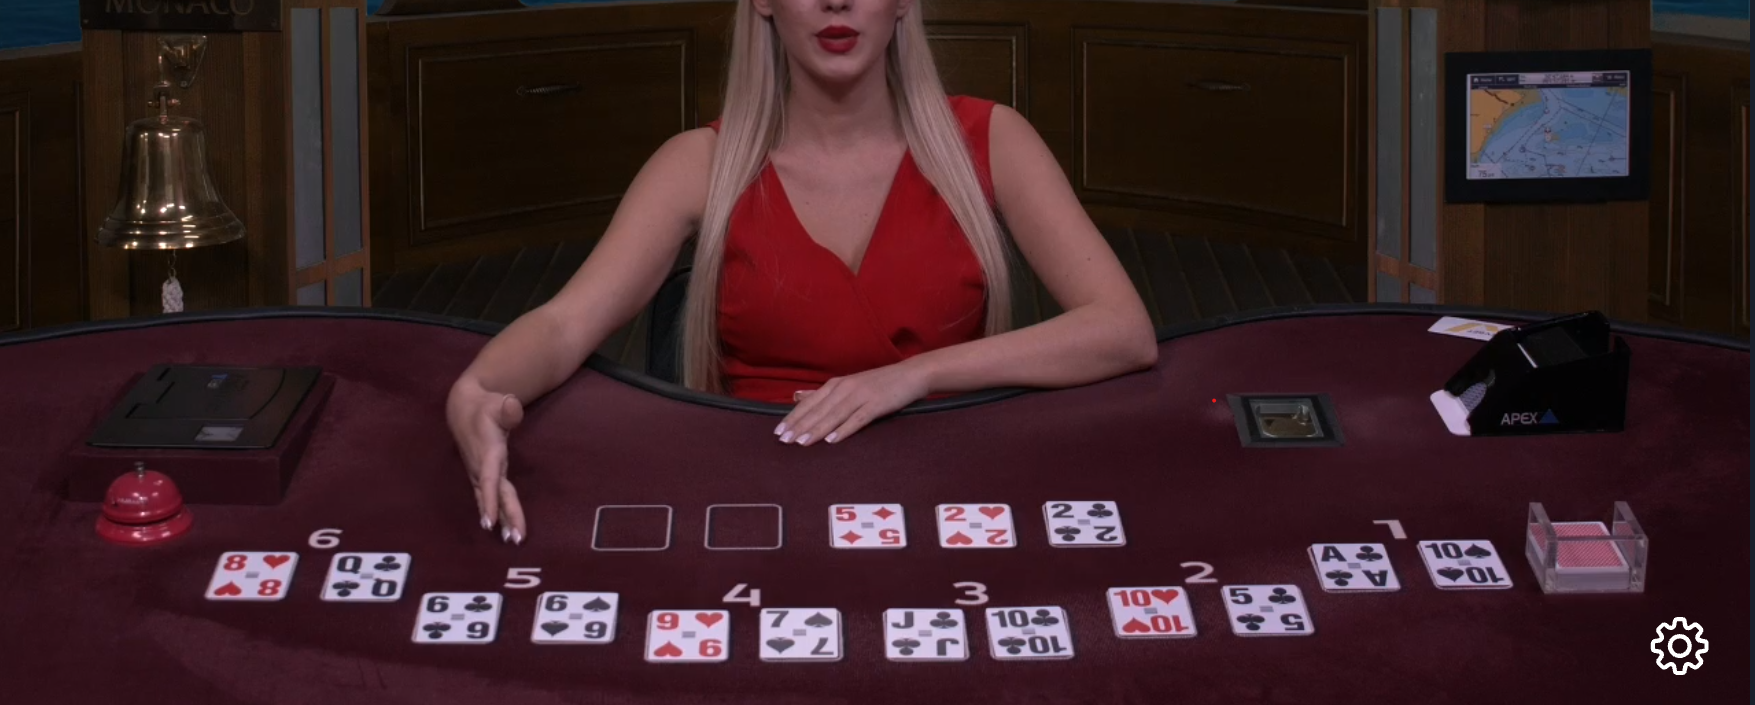10c: (985, 603, 1076, 666)
10h: (1099, 581, 1201, 641)
10s: (1417, 536, 1511, 594)
2c: (1038, 493, 1127, 554)
2h: (938, 497, 1021, 556)
5c: (1214, 579, 1313, 637)
5d: (822, 498, 914, 556)
6c: (420, 587, 503, 642)
6s: (531, 579, 614, 648)
7s: (754, 599, 841, 666)
8h: (212, 543, 297, 603)
9h: (642, 607, 726, 669)
asc: (1315, 537, 1400, 591)
jc: (882, 602, 968, 673)
qc: (325, 549, 411, 608)
